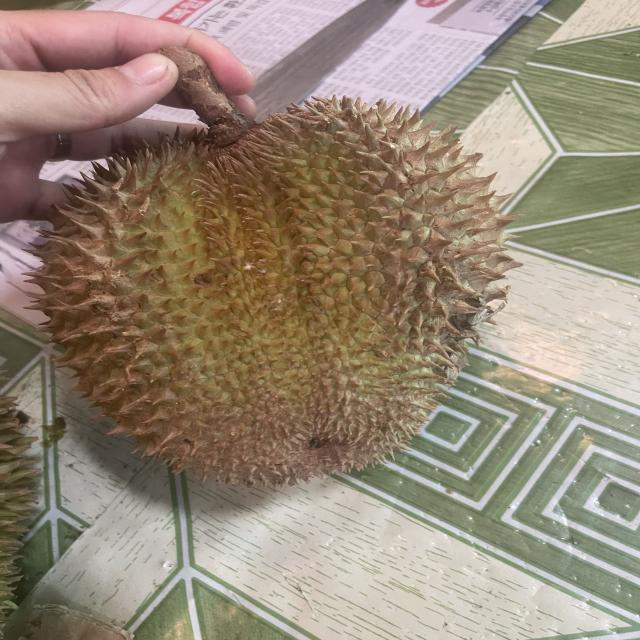mature: (42, 105, 508, 498)
